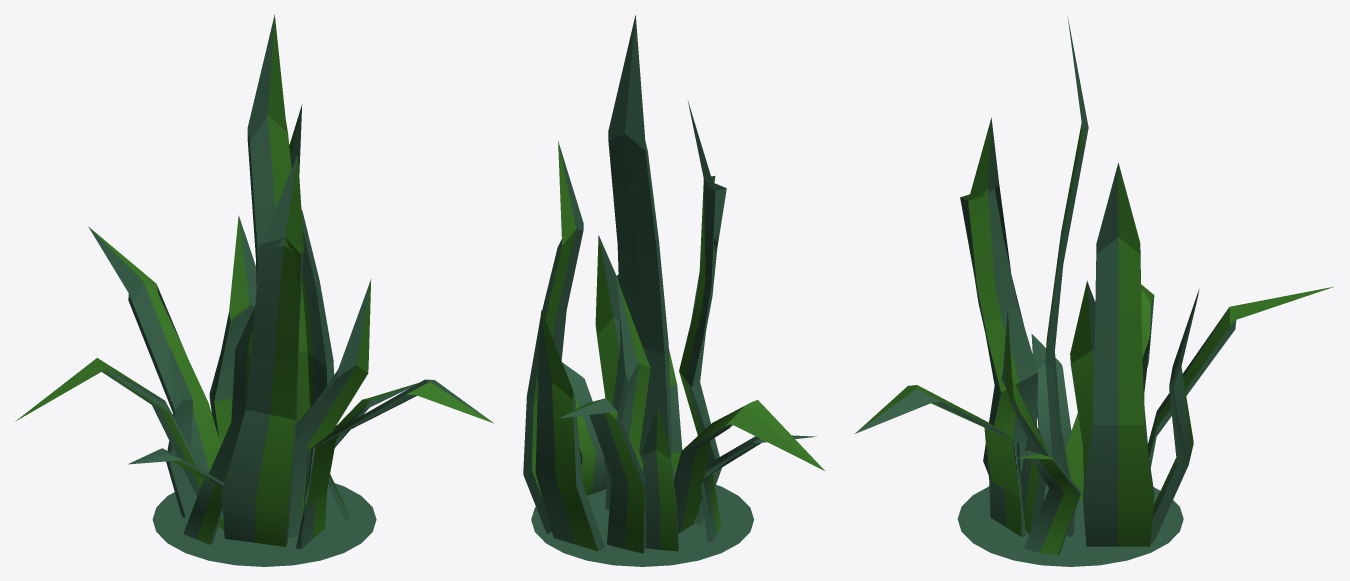
Rendered from Enviro_grass_001 (1).fbx.
3 views of the same model, side by side, from view 1: azimuth 30°, elevation 25°; view 2: azimuth 150°, elevation 25°; view 3: azimuth 270°, elevation 25° (orthographic).
Visible parts, largest first — view 1: pCube55; view 2: pCube55; view 3: pCube55.
Part boxes in pixels (<box>): pCube55: <box>15,14,493,566</box>; pCube55: <box>523,15,824,566</box>; pCube55: <box>855,16,1333,566</box>.
Size of the model in its own units: 115 by 162 by 136.
